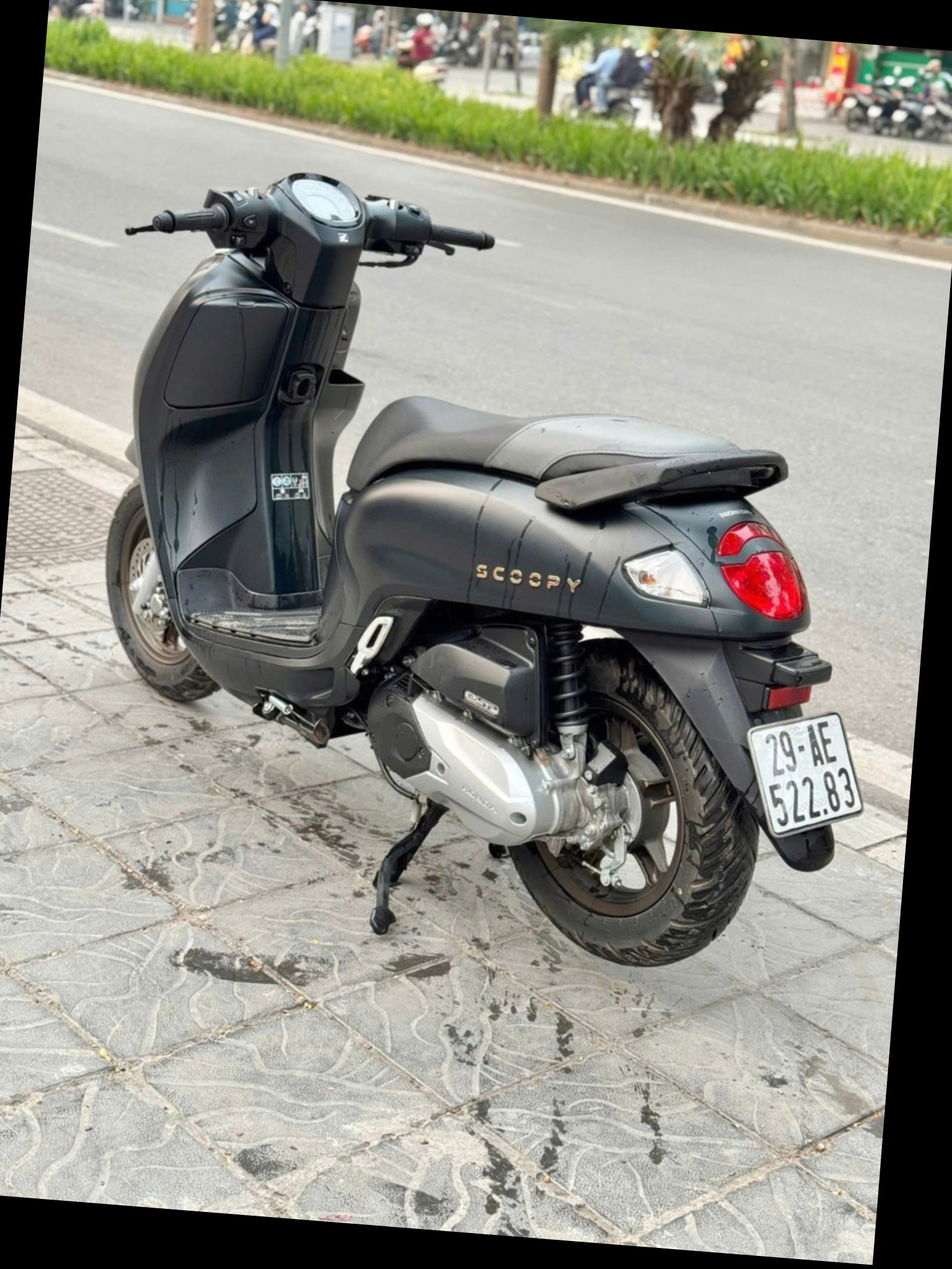Bien-so: (741, 702, 876, 845)
